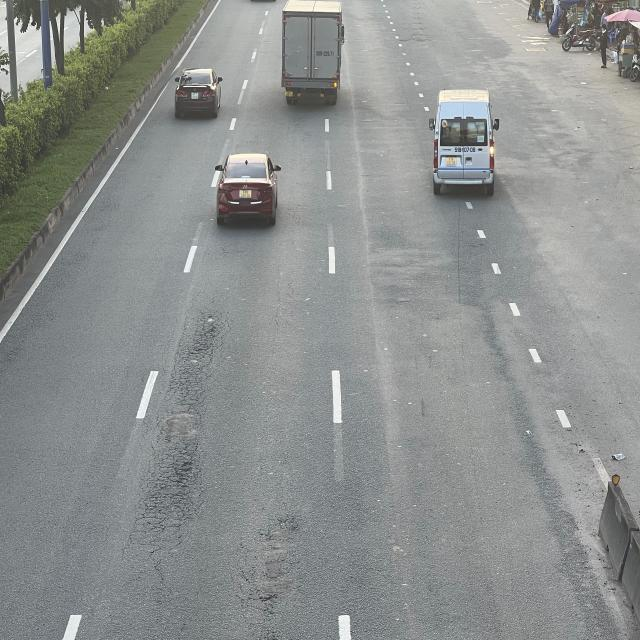car: (215, 154, 284, 229), (175, 68, 224, 119)
truck: (280, 0, 344, 107)
van: (432, 89, 502, 197)
